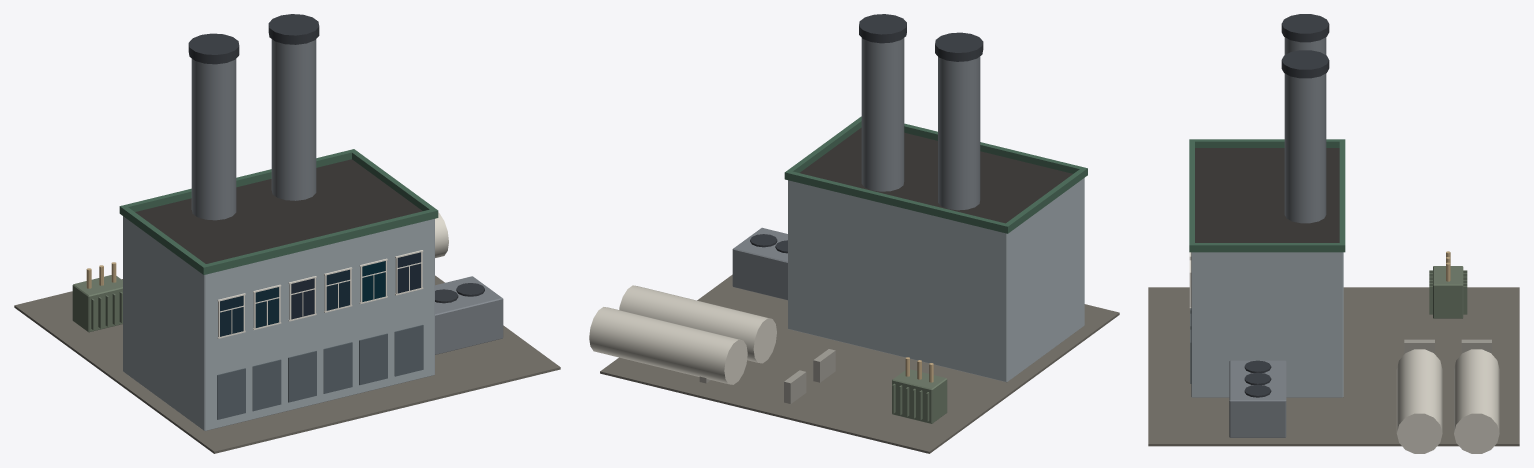
File: gasturbine.glb
3 views of the same model, side by side, from view 1: azimuth 30°, elevation 25°; view 2: azimuth 150°, elevation 25°; view 3: azimuth 270°, elevation 25° (orthographic). The views are drawn at different scales.
Visible parts, largest first — view 1: gasturbine; view 2: gasturbine; view 3: gasturbine.
Boxes of the visible parts, box(x1,y1,x2,y2) form: gasturbine: box(14, 14, 560, 453); gasturbine: box(589, 14, 1119, 453); gasturbine: box(1148, 14, 1519, 453).
Size of the model in its own units: 20.75 by 17.6 by 19.5.
